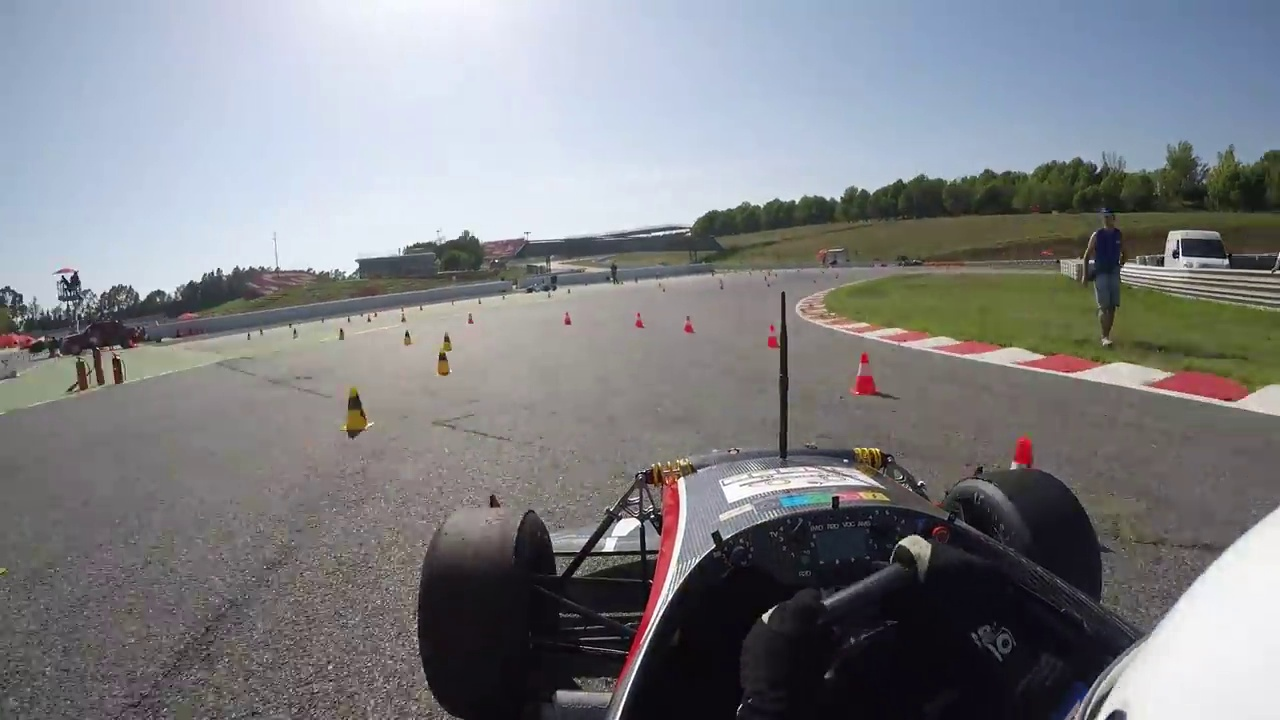Cone: (343, 382, 372, 435), (848, 353, 879, 391)
